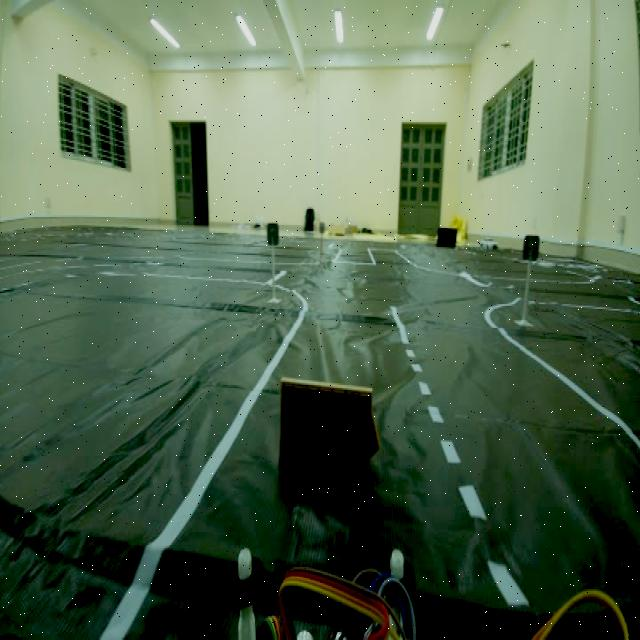roadblock: (273, 366, 379, 486)
